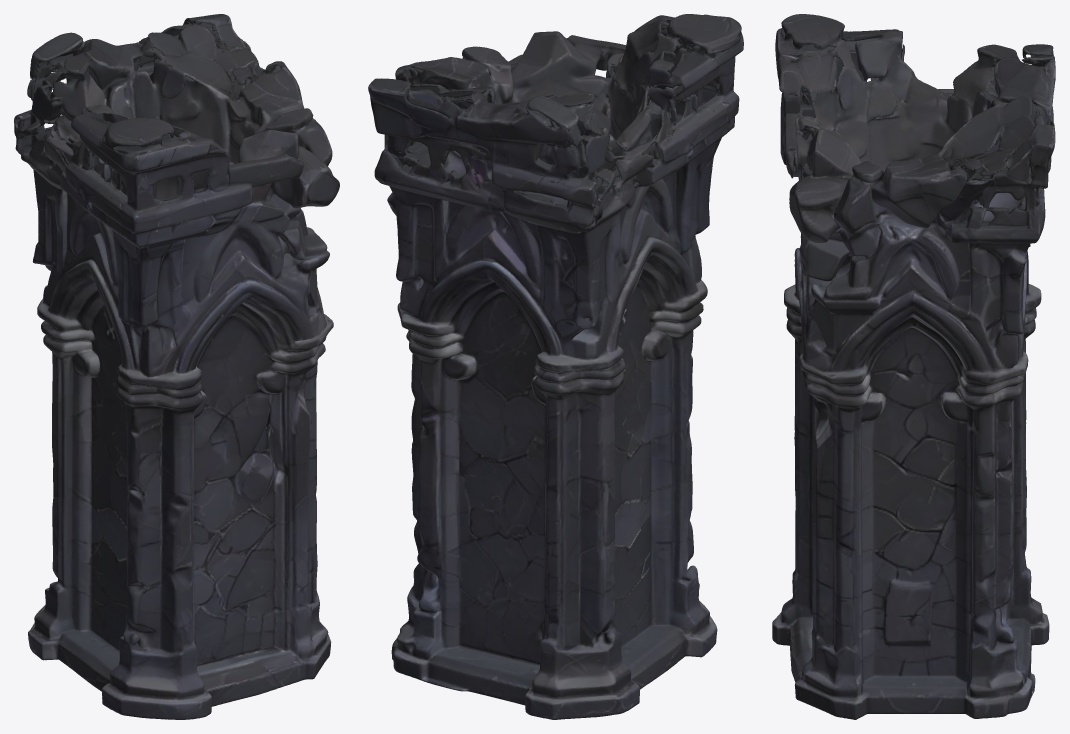
File: broken_cathedral_pillar.glb
The picture shows the model from 3 angles, left to right: view 1: azimuth 30°, elevation 25°; view 2: azimuth 150°, elevation 25°; view 3: azimuth 270°, elevation 25°; orthographic projection. The views are drawn at different scales.
Visible parts, largest first — view 1: tripo_node_f757ba04-88fb-4257-ab26-c8720272882f; view 2: tripo_node_f757ba04-88fb-4257-ab26-c8720272882f; view 3: tripo_node_f757ba04-88fb-4257-ab26-c8720272882f.
Part boxes in pixels (x1=…): tripo_node_f757ba04-88fb-4257-ab26-c8720272882f: x1=14, y1=14, x2=339, y2=719; tripo_node_f757ba04-88fb-4257-ab26-c8720272882f: x1=368, y1=14, x2=743, y2=719; tripo_node_f757ba04-88fb-4257-ab26-c8720272882f: x1=772, y1=14, x2=1055, y2=719.
Size of the model in its own units: 0.4474 by 1 by 0.4349.
Materials: 1 (1 with a texture image).
